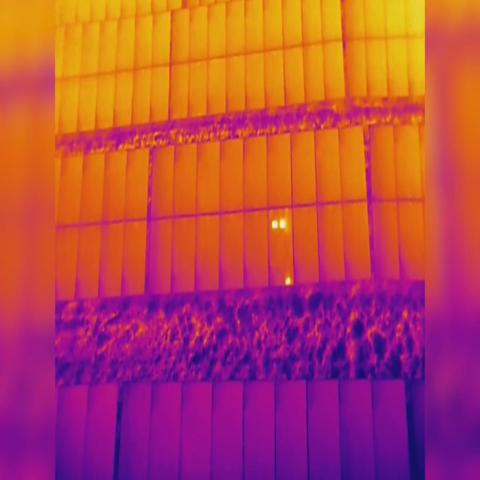fault: (284, 274, 292, 287), (277, 219, 287, 229), (272, 220, 278, 231)
